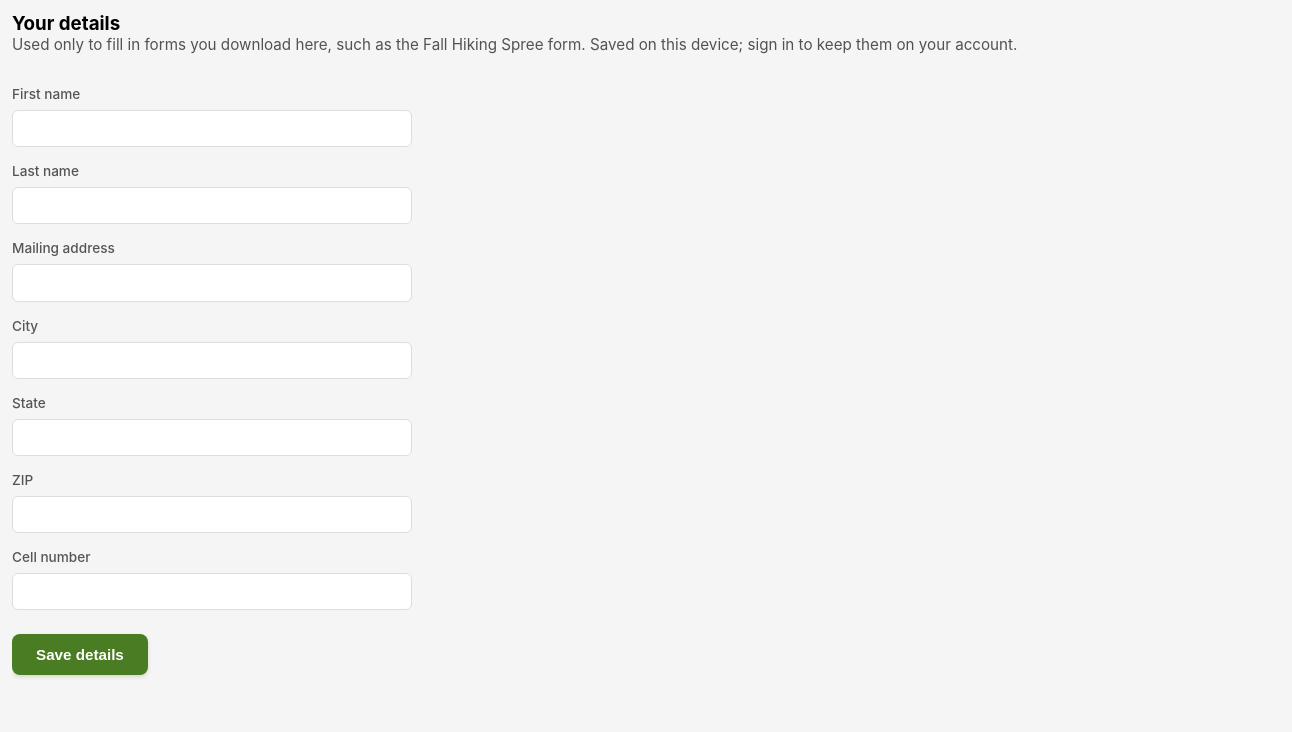
Test: ContactDetails › says so when saving fails
The image size is (1292, 732).
Step 1. Click the button "Save details" → (80, 655), box [12,634,148,675]
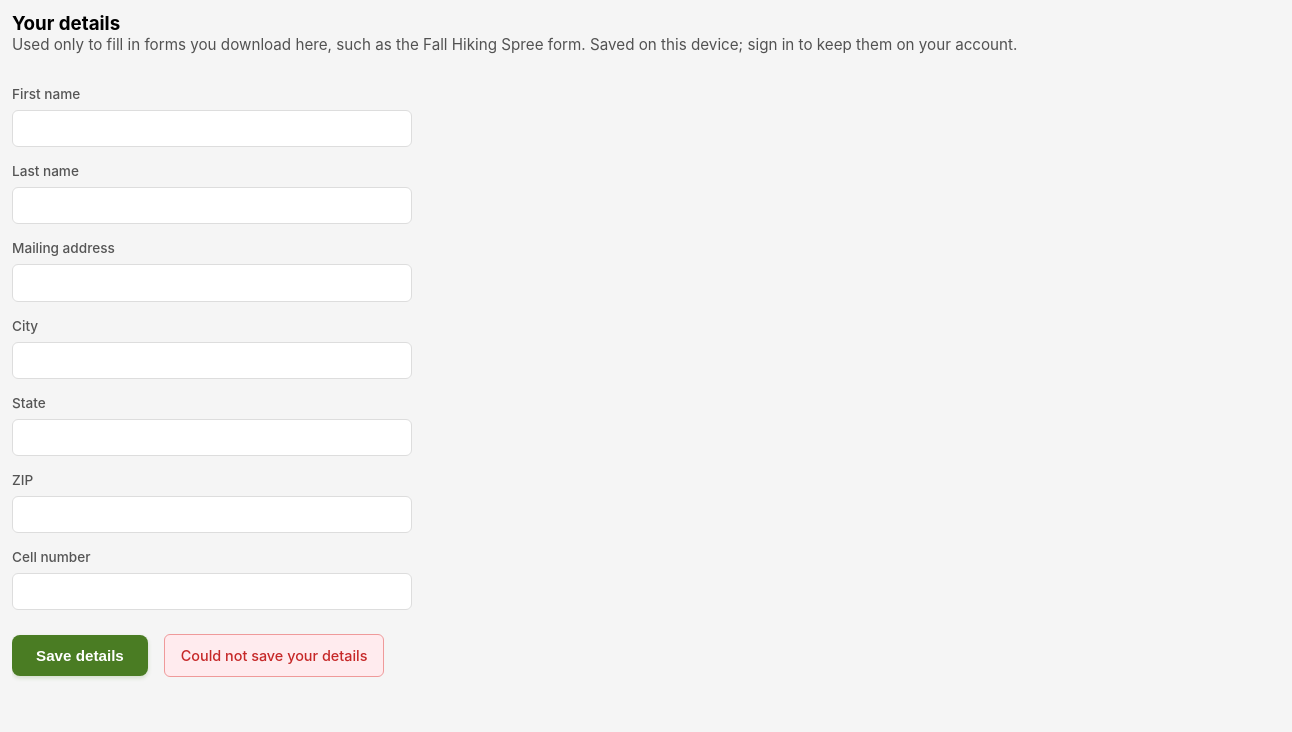
Result: the message shows "Could not save" at [181,647,367,664]
